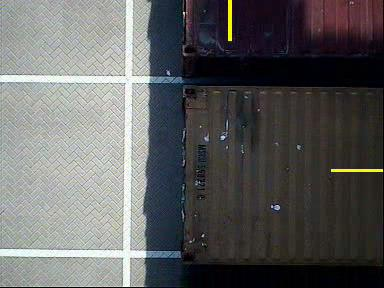groundmarker_2: (203, 46, 238, 105)
